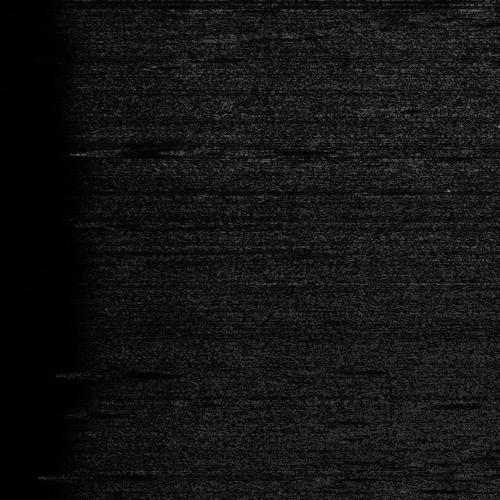rock: (470, 468, 500, 473)
